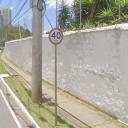speed_limit_40: (49, 28, 63, 44)
